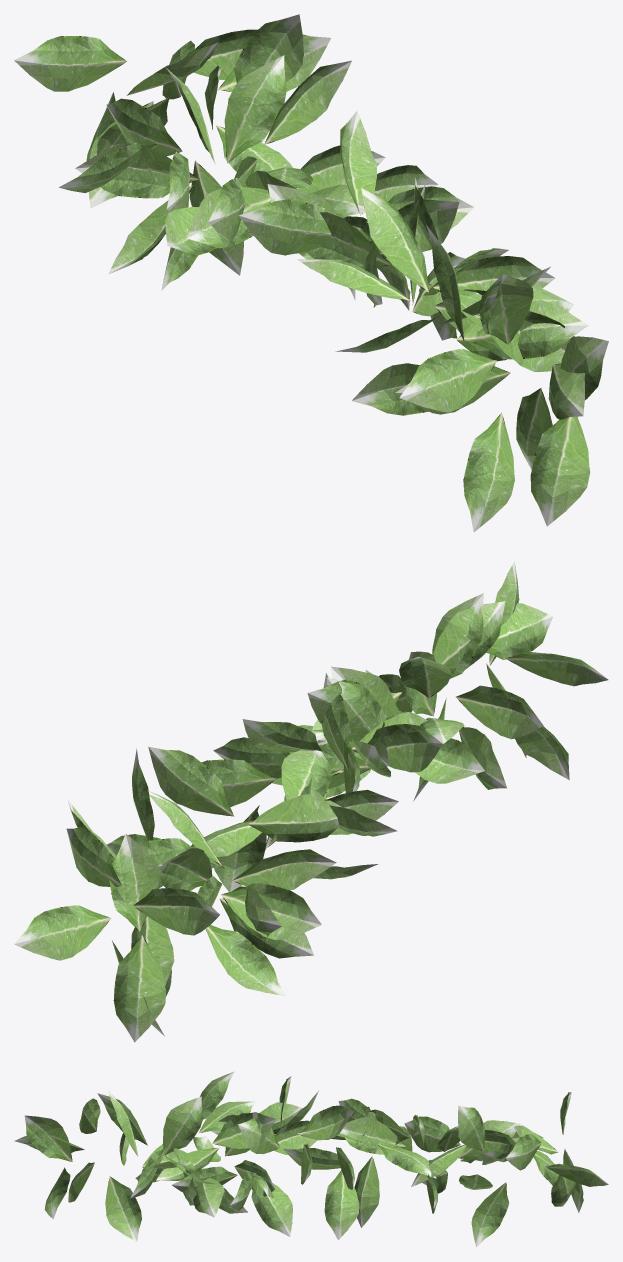
The model's file is leaves.glb.
3 views of the same model, one above another, from view 1: azimuth 30°, elevation 25°; view 2: azimuth 150°, elevation 25°; view 3: azimuth 270°, elevation 25° (orthographic). The views are drawn at different scales.
Parts seen in each view (by area): view 1: Cylinder; view 2: Cylinder; view 3: Cylinder.
Boxes of the visible parts, x1,y1,x2,y2 form: Cylinder: [14, 14, 608, 532]; Cylinder: [14, 562, 608, 1042]; Cylinder: [14, 1071, 608, 1246].
Bounding box in the file's own units: 0.3135 × 0.2677 × 0.9309.
Materials: 1 (1 with a texture image).
